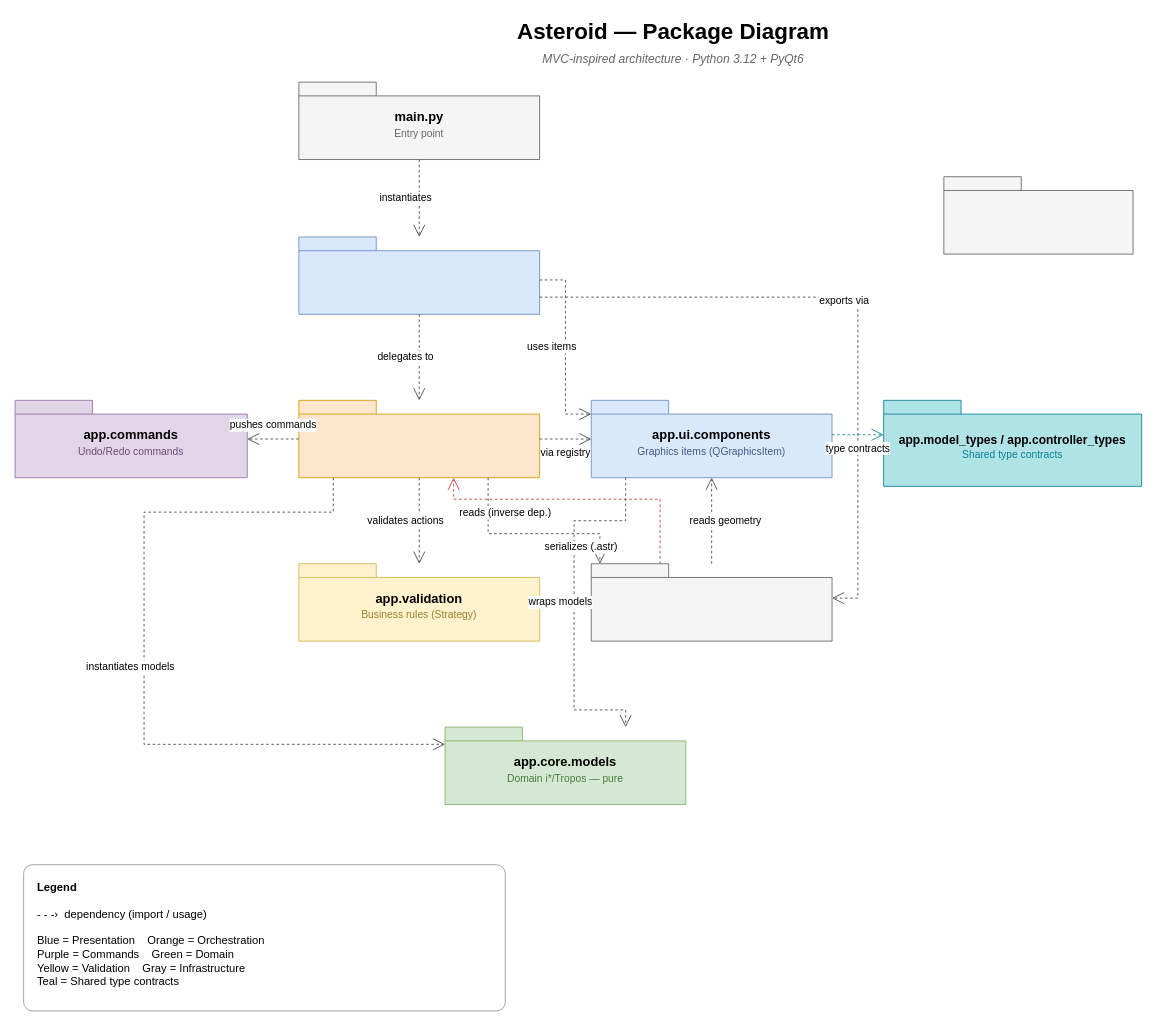
Image size: 1157x1026. Some labels were removed from this diagram. The box of each missing label's shape, as (x1, y1, x2, y2) in pixels:
app.controllers Orchestration: mixin composition: (298, 399, 540, 478)
app.i18n Internationalization: (943, 176, 1133, 254)
app.ui Presentation: window, canvas, sidebar: (298, 236, 540, 314)
app.utils Export & serialization: (590, 563, 832, 641)
